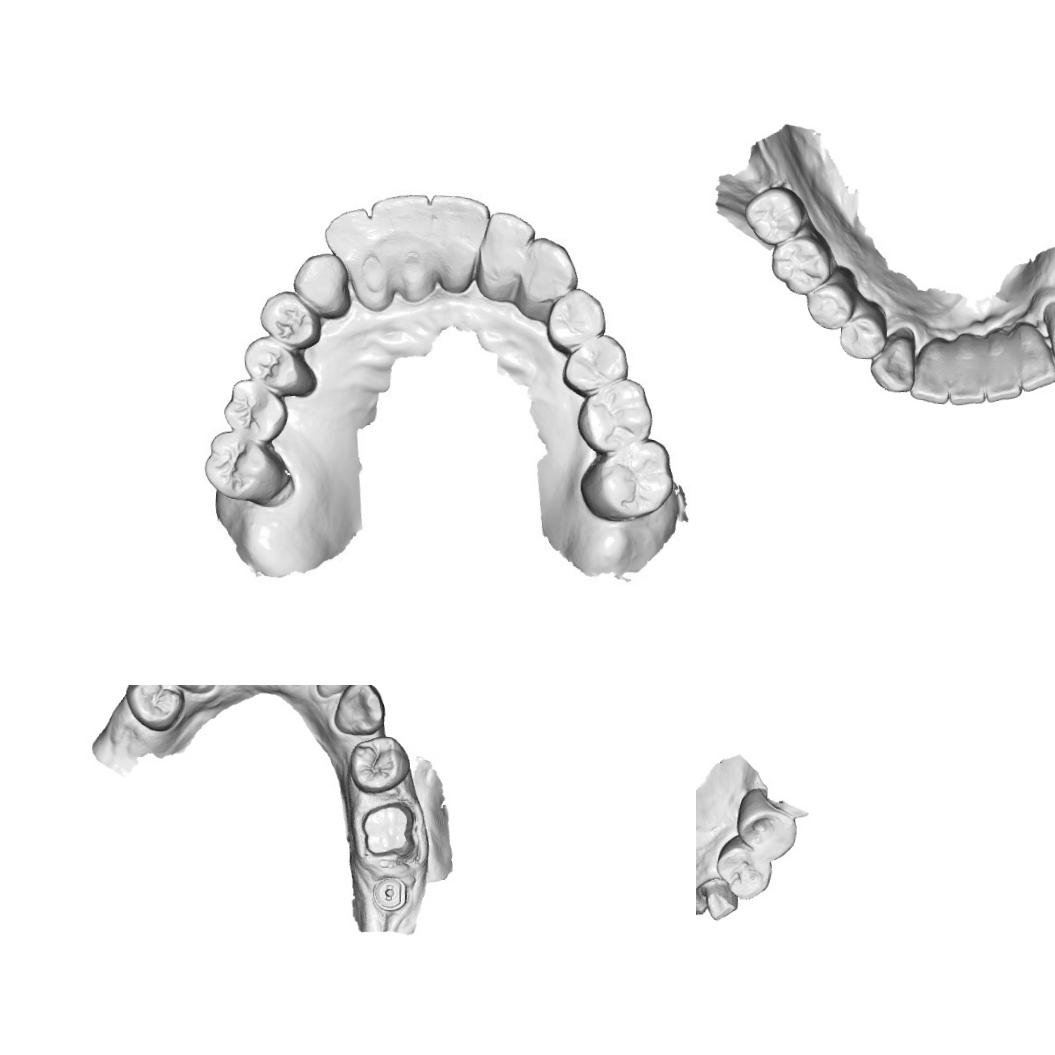canine: (288, 249, 348, 319), (519, 233, 577, 303), (868, 323, 916, 393), (330, 685, 387, 737), (1039, 299, 1055, 375)
crown: (358, 800, 417, 858), (696, 874, 740, 922)
implant_minus: (371, 875, 407, 912)
incisor: (425, 188, 492, 258), (366, 191, 432, 258), (478, 208, 535, 280), (319, 205, 374, 273), (945, 330, 990, 408), (1011, 320, 1055, 393), (909, 334, 953, 406), (982, 330, 1024, 404), (314, 685, 364, 700)
molar: (580, 434, 676, 524), (574, 373, 660, 455), (200, 430, 288, 506), (768, 229, 833, 299), (219, 376, 290, 440), (742, 182, 810, 246)
premolar: (730, 786, 800, 864), (559, 328, 628, 396), (543, 284, 607, 355), (238, 334, 306, 398), (712, 834, 773, 902), (346, 734, 412, 796), (257, 288, 324, 348), (804, 262, 858, 331), (836, 298, 890, 361), (122, 685, 186, 732)
